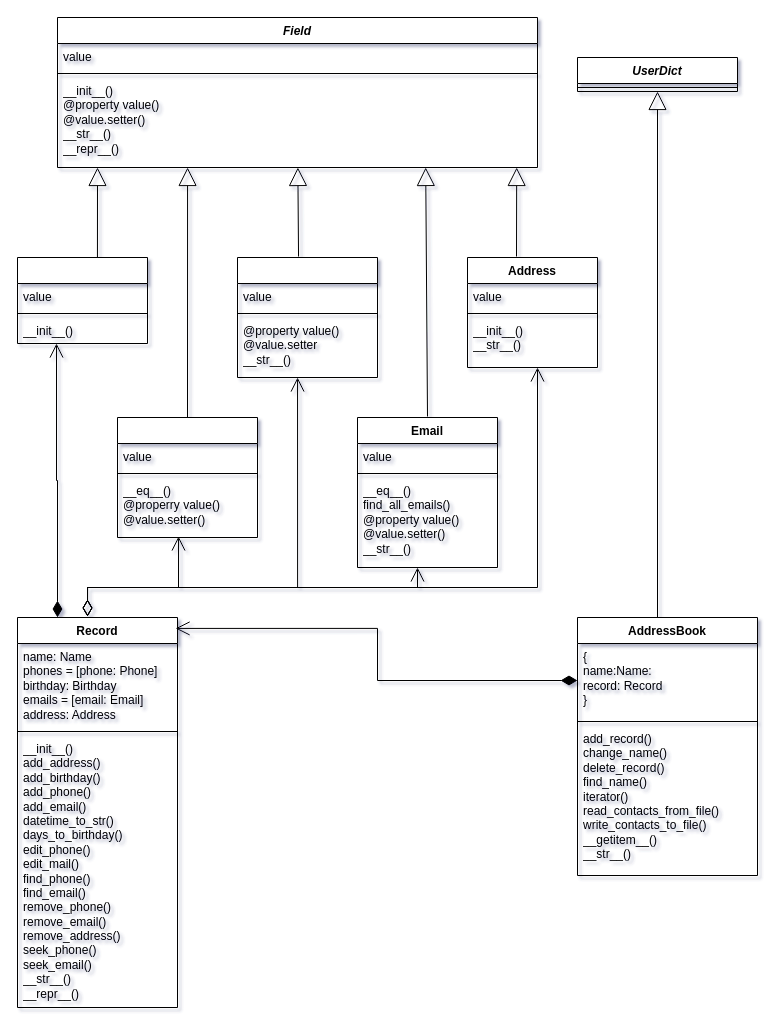
The diagram is 781 pixels wide and 1034 high, and some of its shapes have lost their labels. The box of each missing label's shape, as (x1, y1, x2, y2) in pixels:
Birthday: (236, 256, 378, 378)
Name: (16, 256, 148, 344)
Phone: (116, 416, 258, 538)
